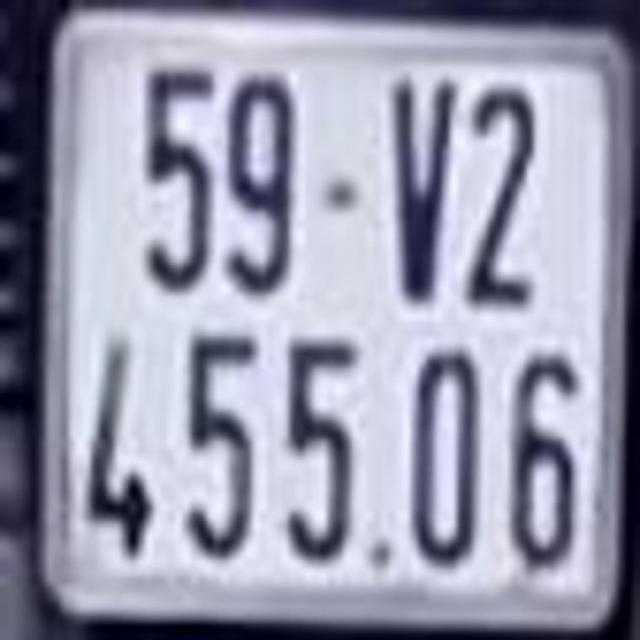0: (408, 344, 476, 560)
2: (465, 71, 535, 305)
4: (83, 324, 154, 556)
5: (142, 63, 215, 291), (283, 327, 354, 560), (187, 327, 254, 552)
6: (511, 346, 580, 565)
9: (223, 67, 292, 295)
V: (385, 67, 456, 312)
